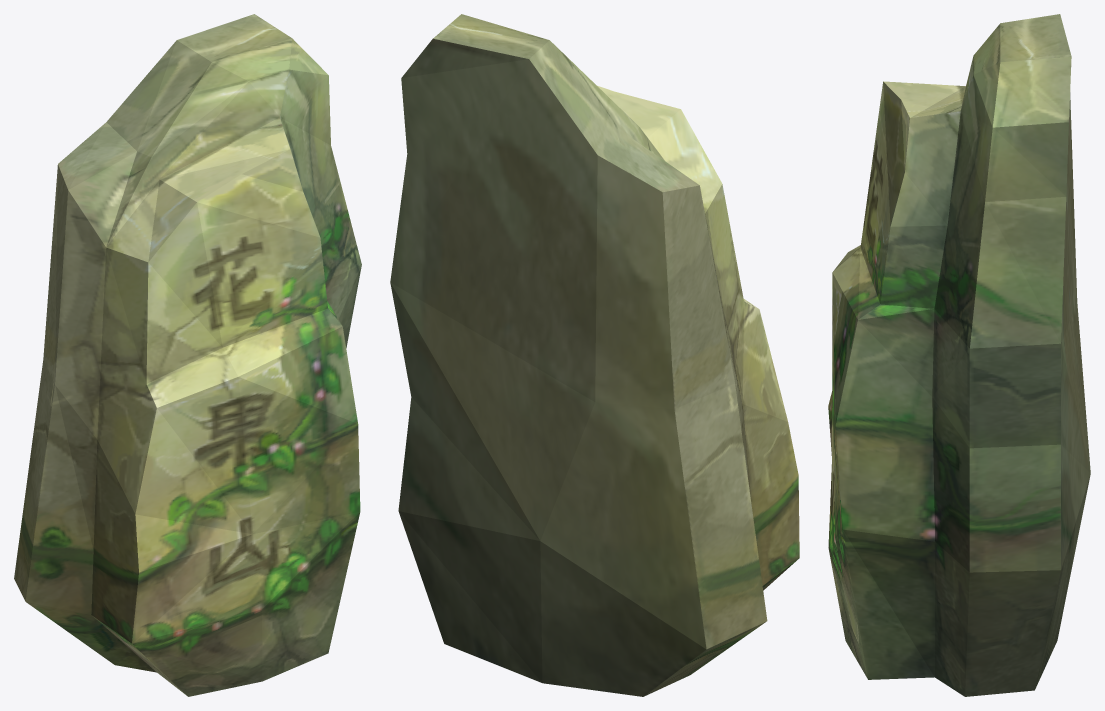
Rendered from shibeipai.FBX.
The picture shows the model from 3 angles, left to right: view 1: azimuth 30°, elevation 25°; view 2: azimuth 150°, elevation 25°; view 3: azimuth 270°, elevation 25°; orthographic projection. The views are drawn at different scales.
Parts seen in each view (by area): view 1: shibeipai; view 2: shibeipai; view 3: shibeipai.
Boxes of the visible parts, x1,y1,x2,y2 form: shibeipai: (14,14,361,696); shibeipai: (390,14,799,696); shibeipai: (828,14,1090,696).
Size of the model in its own units: 266 by 441 by 165.
